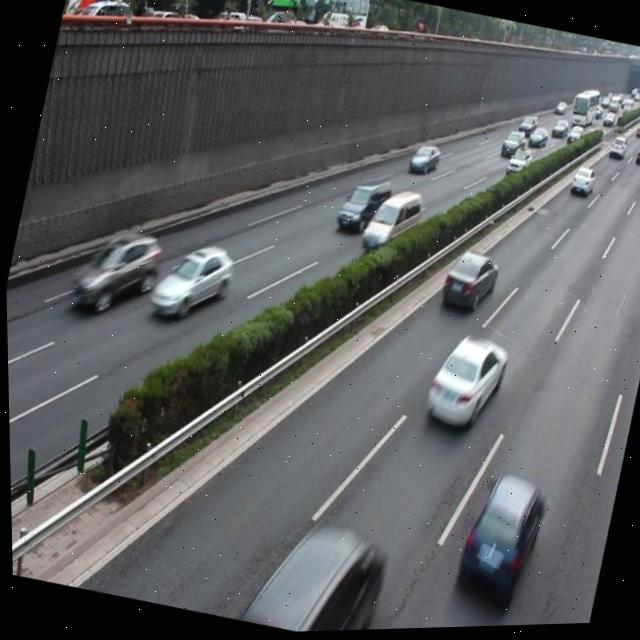car: (444, 468, 548, 616), (63, 216, 165, 325), (415, 328, 509, 438), (143, 234, 237, 332), (435, 245, 500, 317)
truck: (236, 509, 384, 635), (356, 182, 424, 260), (332, 171, 393, 240)
